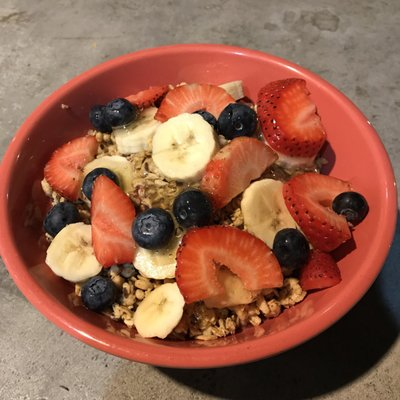pasta: (151, 112, 217, 183), (45, 222, 103, 283), (133, 282, 185, 339)
sushi: (0, 43, 397, 379)
